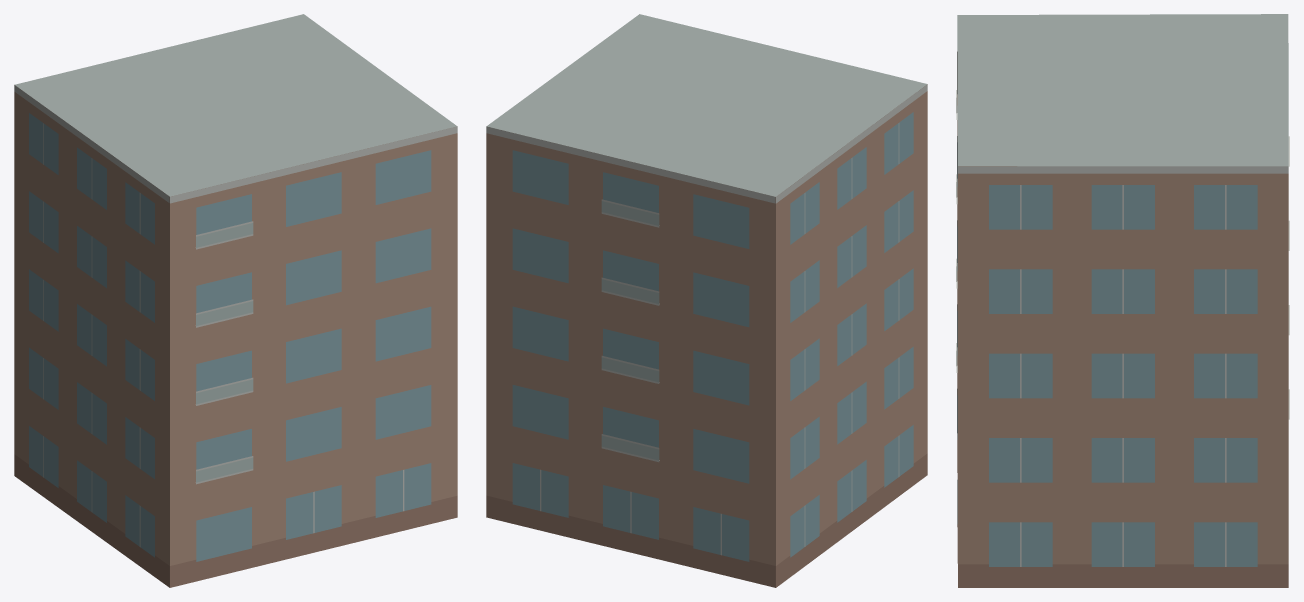
File: survey-upis-32874891.glb
The picture shows the model from 3 angles, left to right: view 1: azimuth 30°, elevation 25°; view 2: azimuth 150°, elevation 25°; view 3: azimuth 270°, elevation 25°; orthographic projection. The views are drawn at different scales.
Visible parts, largest first — view 1: survey-upis-32874891.tmp; view 2: survey-upis-32874891.tmp; view 3: survey-upis-32874891.tmp.
Part boxes in pixels (x1,y1,x2,y2): survey-upis-32874891.tmp: (14,14,457,587); survey-upis-32874891.tmp: (486,14,927,587); survey-upis-32874891.tmp: (956,14,1289,587).
Bounding box in the file's own units: 10.87 × 14 × 10.05.
